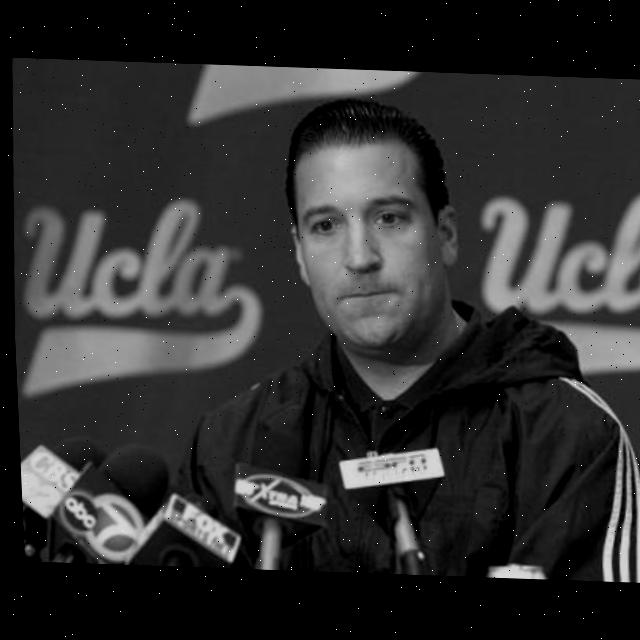face: (287, 135, 460, 366)
